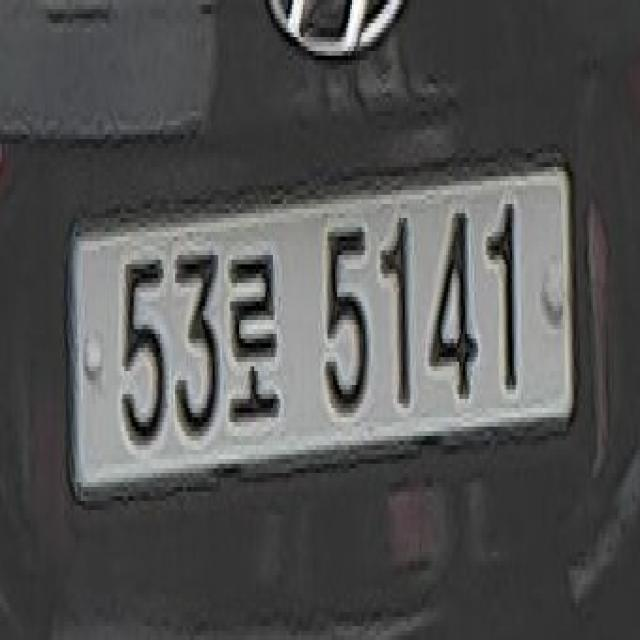1: (374, 200, 420, 408), (484, 209, 529, 408)
3: (167, 218, 226, 459)
4: (424, 214, 480, 418)
5: (107, 250, 175, 464), (314, 209, 374, 408)
license_plate: (72, 148, 591, 501)
lo: (224, 246, 282, 431)
